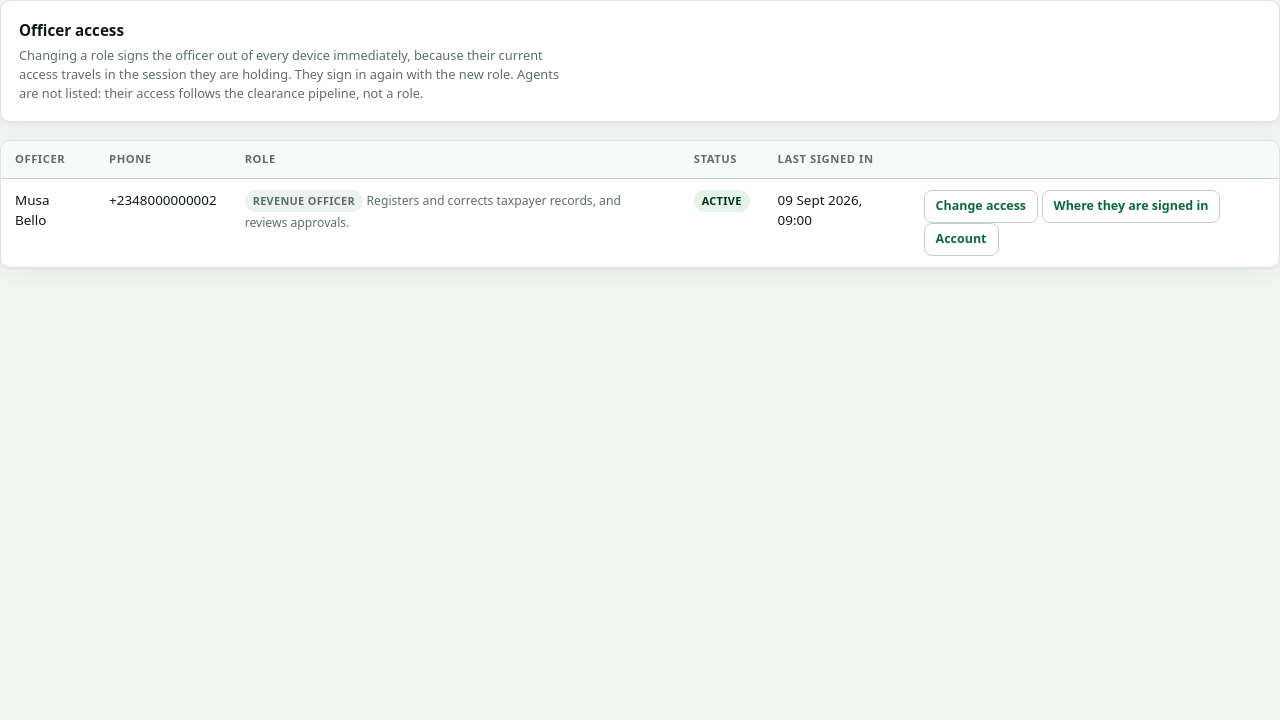
Test case: on the screen that ends somebody’s access › tells the officer what the grey button is waiting for
What coordinates should you click on to do the following:
click the button "Account"
I would click on:
 (961, 239)
Its box is left=924, top=223, right=998, bottom=256.
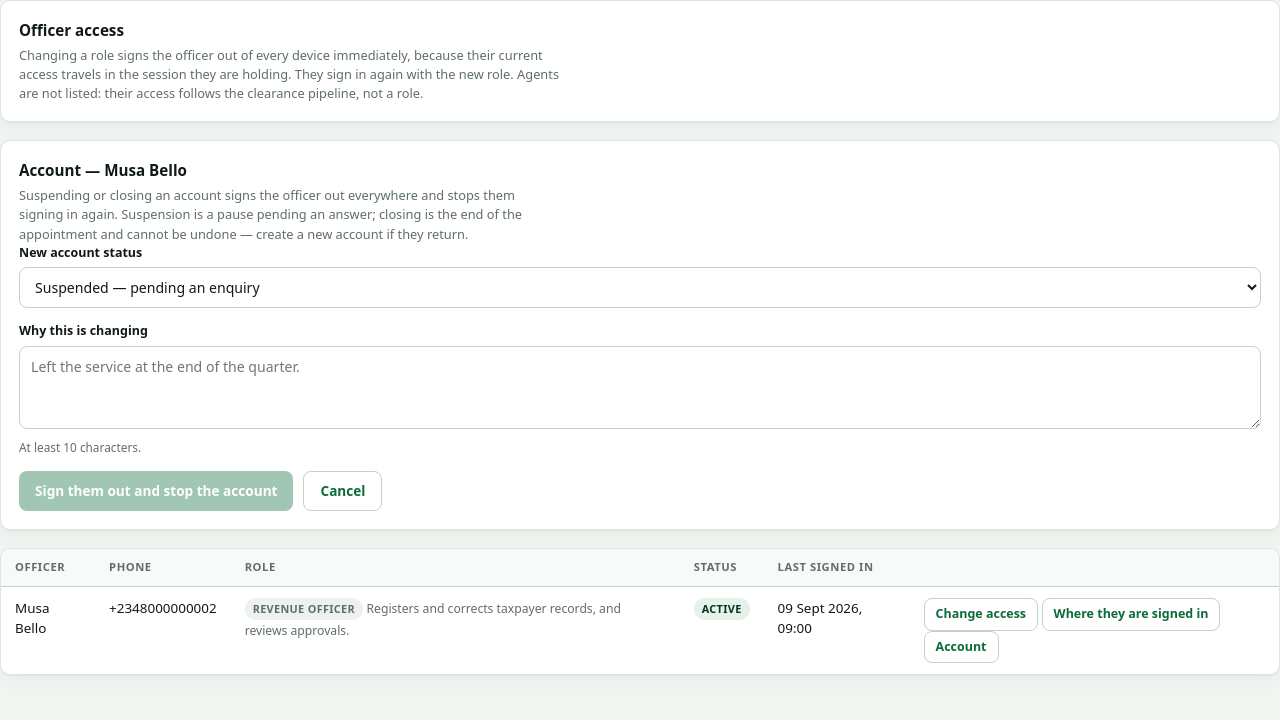
expect the text "At least 10 characters." is shown: met, box left=19, top=439, right=141, bottom=455
